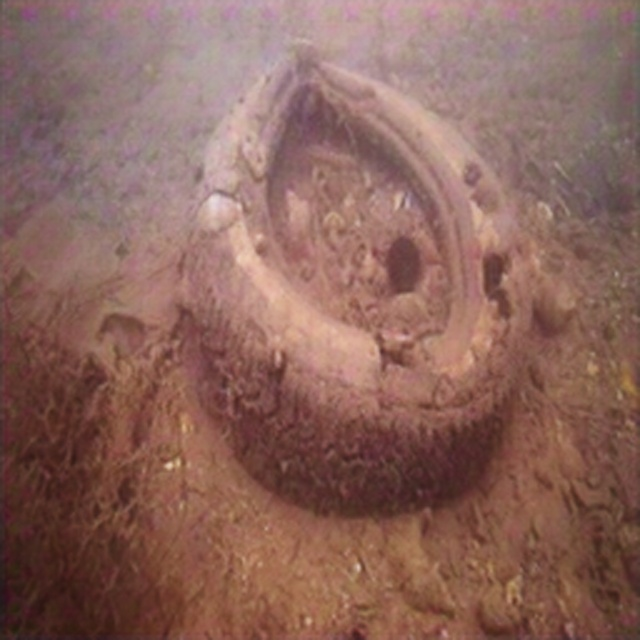mine: (185, 36, 532, 517)
